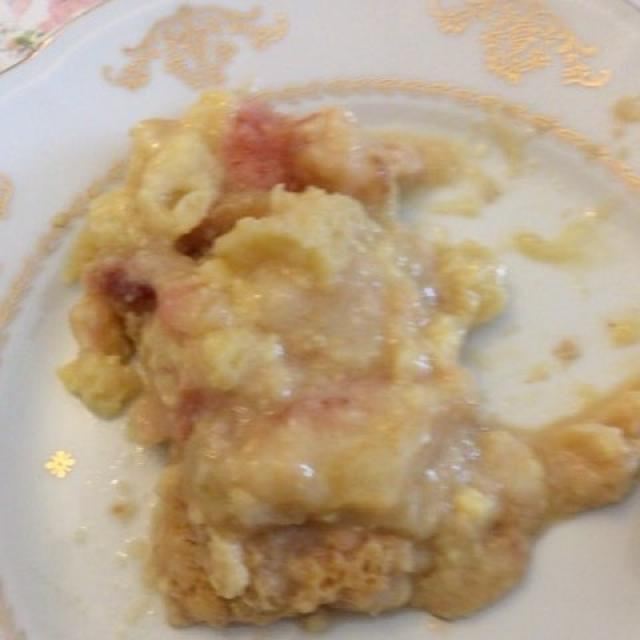tart: (82, 125, 623, 621)
